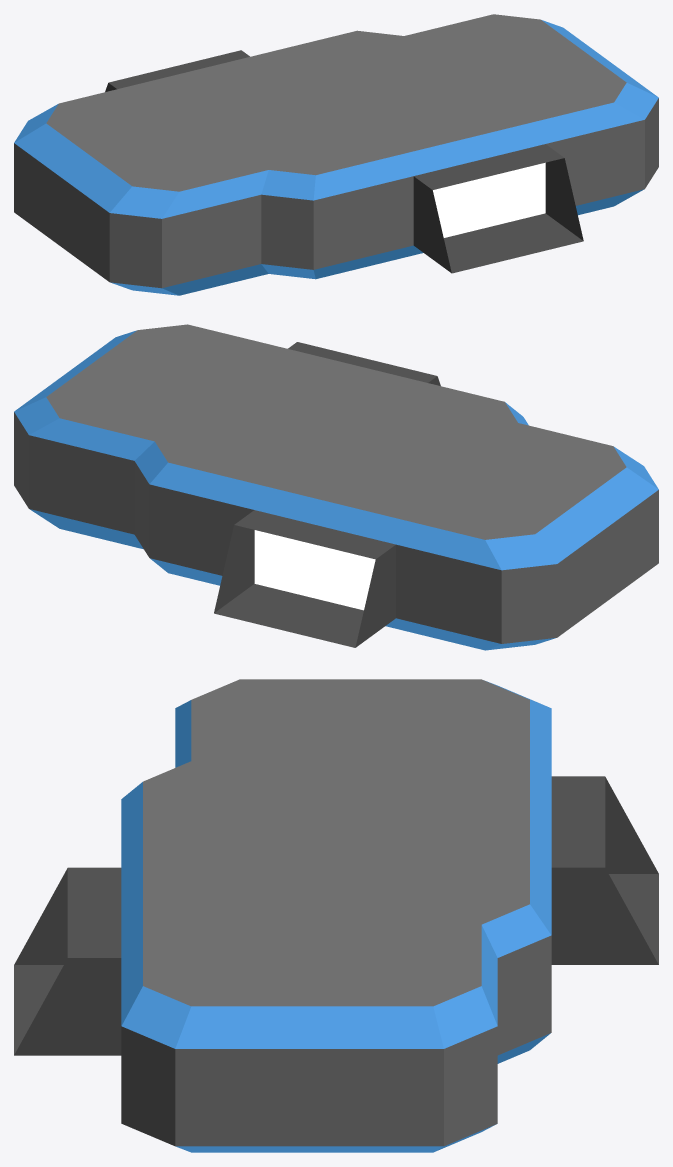
File: dock.glb
The picture shows the model from 3 angles, top to bottom: view 1: azimuth 30°, elevation 25°; view 2: azimuth 150°, elevation 25°; view 3: azimuth 270°, elevation 25°; orthographic projection. The views are drawn at different scales.
Visible parts, largest first — view 1: Plane; view 2: Plane; view 3: Plane.
Part boxes in pixels (<box>): Plane: <box>14,14,658,295</box>; Plane: <box>14,324,658,650</box>; Plane: <box>14,679,658,1152</box>.
Bounding box in the file's own units: 16 × 3 × 12.
